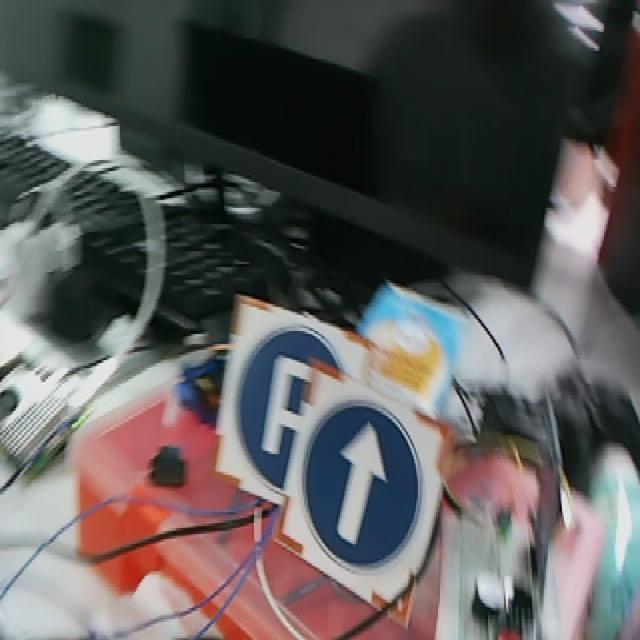parking: (204, 297, 368, 505)
straight: (276, 361, 447, 604)
